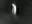person: (12, 4, 18, 18)
